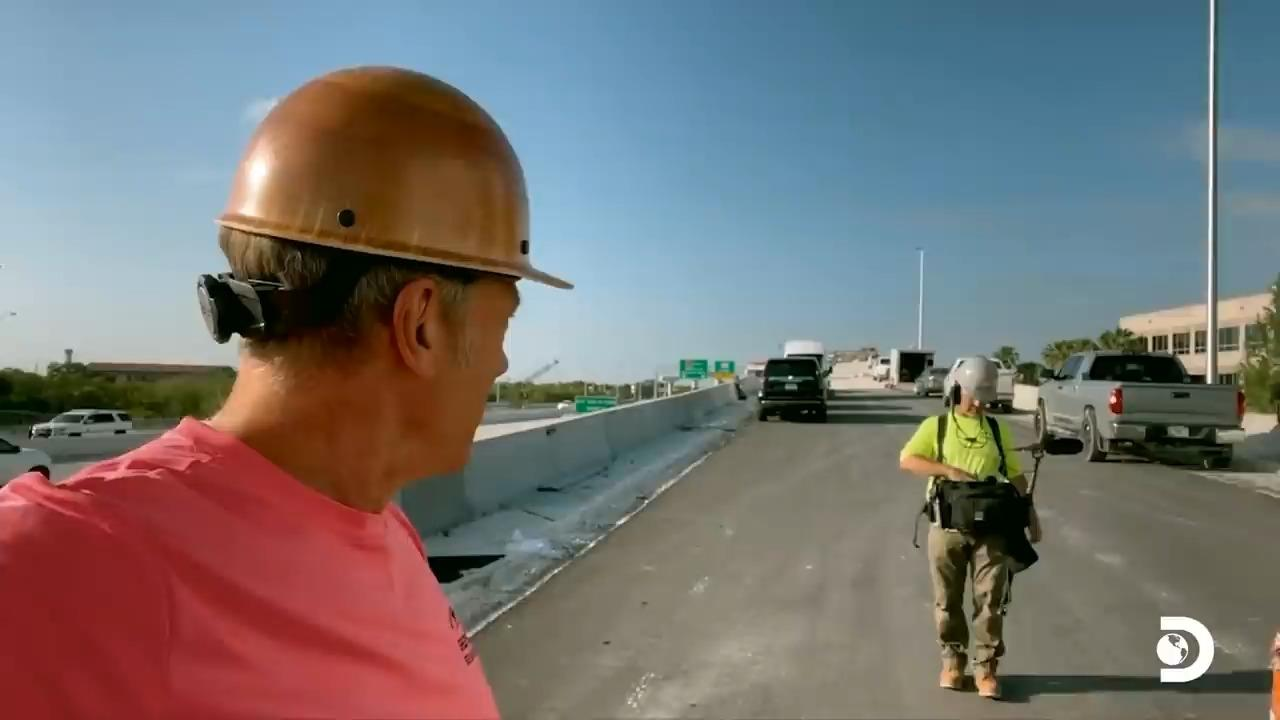Helmet: (214, 63, 575, 290), (941, 355, 998, 407)
Person: (0, 63, 575, 719), (898, 355, 1037, 698)
Safety Boot: (934, 654, 971, 689), (969, 660, 1002, 690)
bare-arms: (1020, 511, 1046, 543), (942, 460, 969, 485)
no-vest: (0, 496, 434, 720), (936, 421, 1011, 488)
